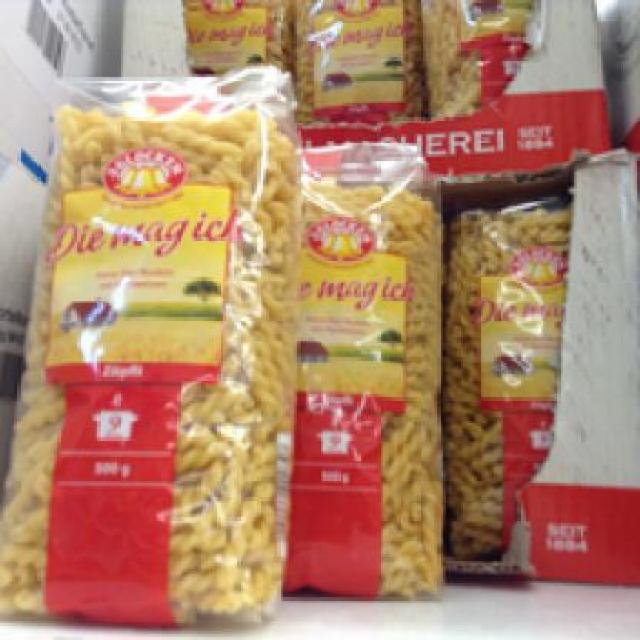Pasta: (2, 72, 292, 618), (286, 134, 443, 597), (443, 185, 566, 558), (290, 0, 423, 112), (414, 0, 530, 109)
